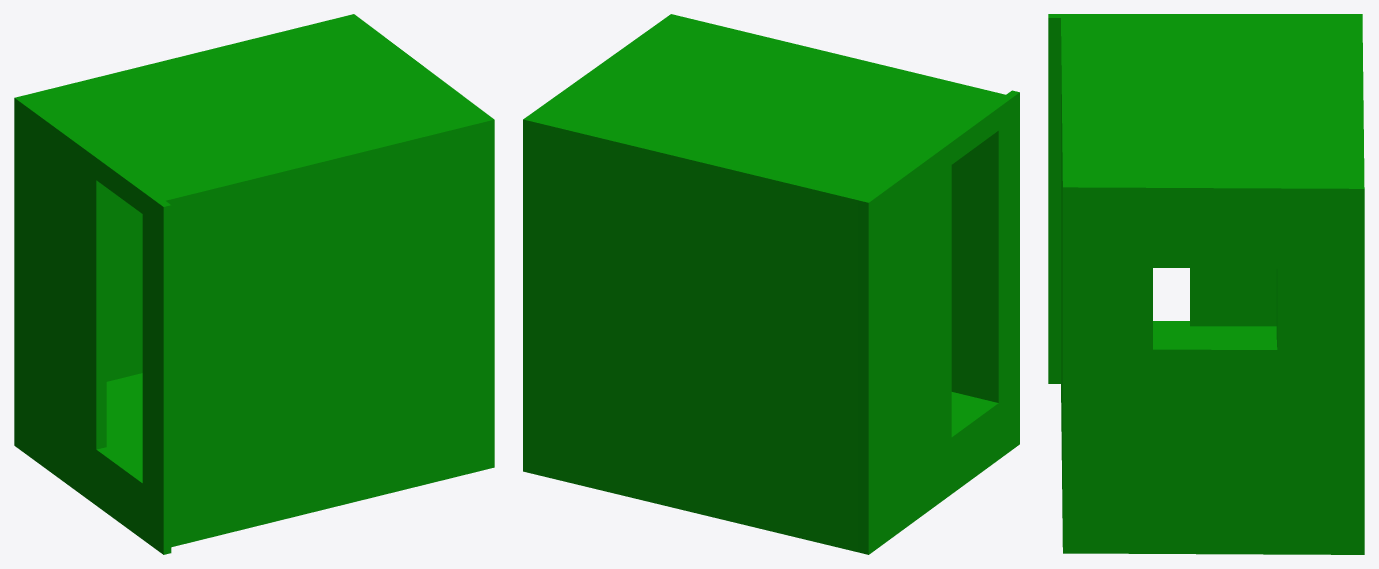
Rendered from cave2_rdc.obj.
The picture shows the model from 3 angles, left to right: view 1: azimuth 30°, elevation 25°; view 2: azimuth 150°, elevation 25°; view 3: azimuth 270°, elevation 25°; orthographic projection. The views are drawn at different scales.
Parts seen in each view (by area): view 1: Cave2_RDC_Cube.037; view 2: Cave2_RDC_Cube.037; view 3: Cave2_RDC_Cube.037.
Boxes of the visible parts, x1,y1,x2,y2 form: Cave2_RDC_Cube.037: (14, 14, 494, 554); Cave2_RDC_Cube.037: (523, 14, 1019, 554); Cave2_RDC_Cube.037: (1048, 14, 1364, 554).
Bounding box in the file's own units: 3.18 × 3.1 × 2.43.
